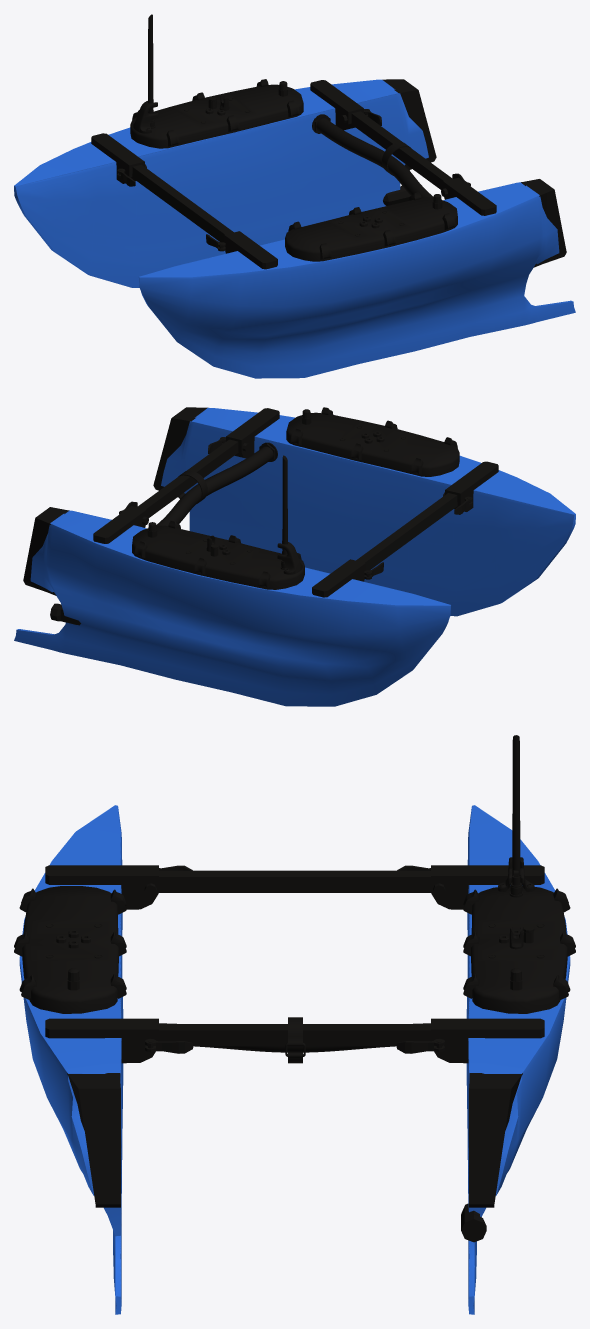
File: blueboat.glb
3 views of the same model, one above another, from view 1: azimuth 30°, elevation 25°; view 2: azimuth 150°, elevation 25°; view 3: azimuth 270°, elevation 25° (orthographic). The views are drawn at different scales.
Visible parts, largest first — view 1: Blue USV; view 2: Blue USV; view 3: Blue USV.
Boxes of the visible parts, x1=… form: Blue USV: x1=14, y1=14, x2=575, y2=378; Blue USV: x1=14, y1=407, x2=575, y2=706; Blue USV: x1=14, y1=735, x2=575, y2=1314.
Bounding box in the file's own units: 1.19 × 0.6918 × 0.9247.
1 material, 1 textured.
